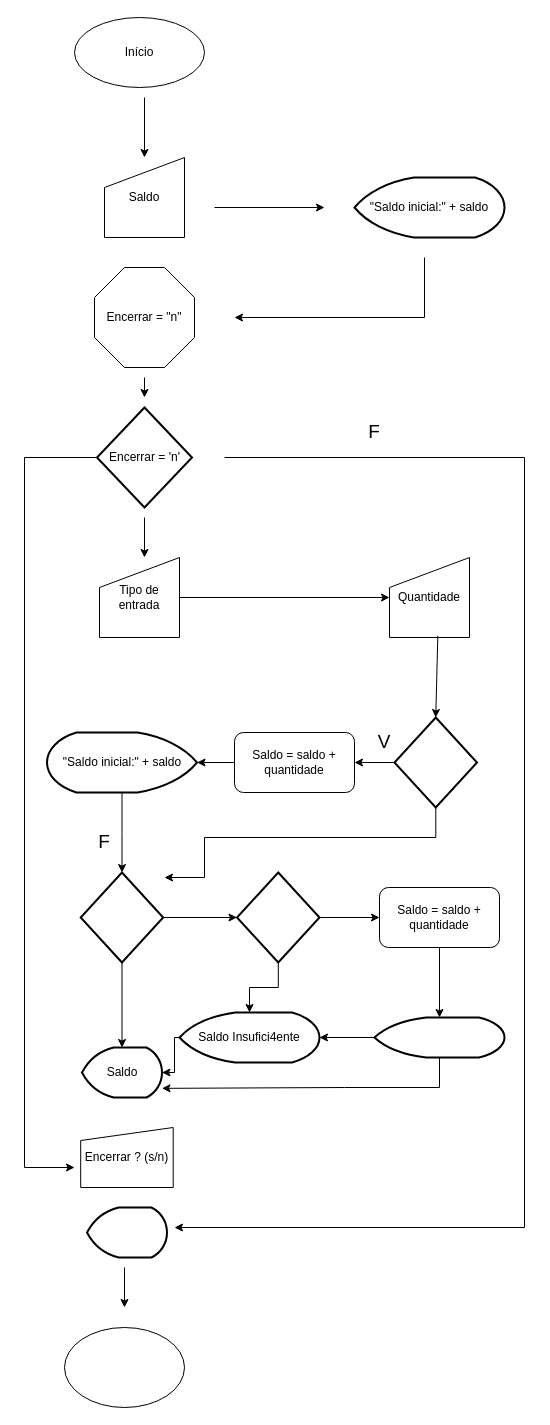
The diagram is 550 pixels wide and 1425 high, and some of its shapes have lost their labels. The shapes that lost their labels are listed below. From the top down, each one's centre as x and y in pixels, then its label:
At (x=435, y=762): "Tipo de entrada = 1".
At (x=121, y=917): "Tipo de entrada = 2".
At (x=278, y=917): "Saldo >= quantidade".
At (x=439, y=1037): "Saida + quantidade".
At (x=127, y=1232): "Sistema encerrrado".
At (x=124, y=1367): "Fim".
